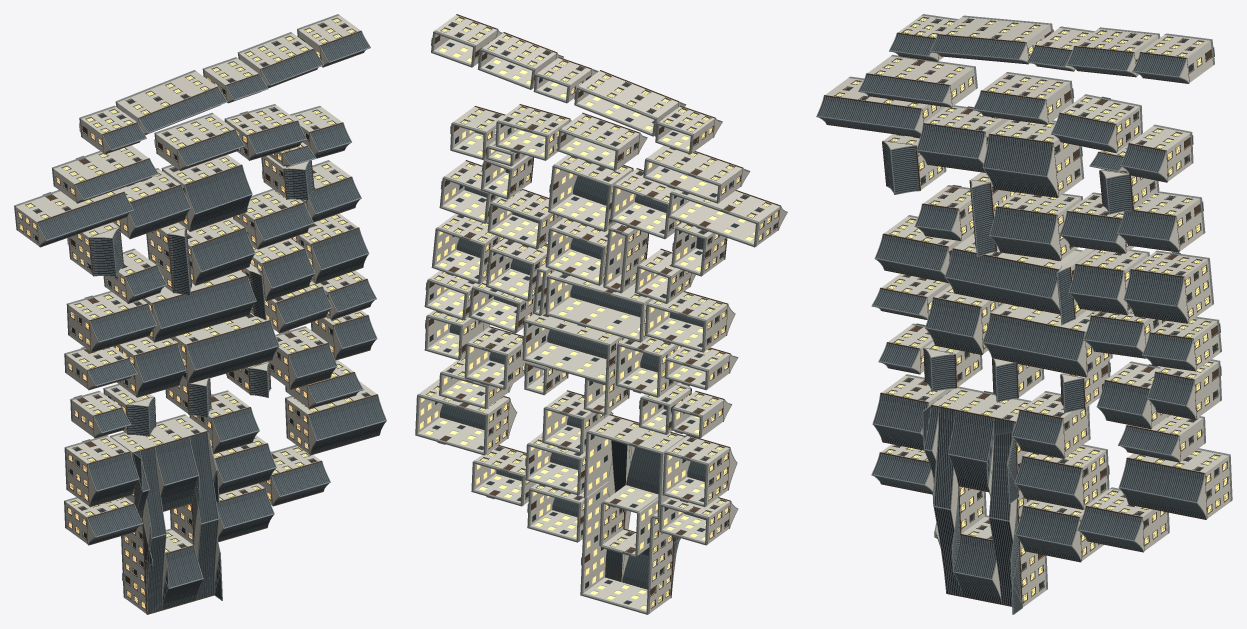
The model's file is near.glb.
The picture shows the model from 3 angles, left to right: view 1: azimuth 30°, elevation 25°; view 2: azimuth 150°, elevation 25°; view 3: azimuth 330°, elevation 25°; orthographic projection. The views are drawn at different scales.
Visible parts, largest first — view 1: relation/8507458, way/614367246, way/614367241, way/614367238, way/614367184, way/614367190, way/614367251, way/614367239, way/614428692, way/614367187, way/614367186, way/614367209 (+33 smaller); view 2: relation/8507458, way/614367246, way/614367241, way/614367238, way/614367184, way/614367190, way/614367251, way/614367239, way/614428692, way/614367187, way/614367186, way/614367209 (+33 smaller); view 3: relation/8507458, way/614367238, way/614367246, way/614367190, way/614367241, way/614367209, way/614367189, way/614367248, way/614367187, way/614428692, way/614367184, way/614367205 (+33 smaller).
Part boxes in pixels (x1,y1,x2,y2): relation/8507458: (110,414,222,614); way/614367246: (170,313,279,383); way/614367241: (142,270,256,342); way/614367238: (285,381,386,455); way/614367184: (14,189,133,247); way/614367190: (161,154,252,231); way/614367251: (64,435,139,507); way/614367239: (66,291,157,352); way/614428692: (115,70,227,135); way/614367187: (52,145,158,203); way/614367186: (154,112,244,170); way/614367209: (291,213,369,284); relation/8507458: (580,414,687,614); way/614367246: (522,312,624,384); way/614367241: (545,270,652,342); way/614367238: (415,379,517,455); way/614367184: (667,189,787,247); way/614367190: (548,154,633,231); way/614367251: (662,435,737,507); way/614367239: (645,291,735,352); way/614428692: (574,70,686,136); way/614367187: (643,145,750,203); way/614367186: (557,112,647,170); way/614367209: (431,214,504,284); relation/8507458: (921,386,1047,614); way/614367238: (1118,448,1232,519); way/614367246: (982,303,1112,377); way/614367190: (982,119,1084,197); way/614367241: (944,233,1082,314); way/614367209: (1123,250,1213,323); way/614367189: (989,192,1082,260); way/614367248: (1014,444,1109,509); way/614367187: (858,54,977,107); way/614428692: (930,15,1053,64); way/614367184: (816,76,945,137); way/614367205: (1117,191,1205,252).
Size of the model in its own units: 79.99 by 119 by 12.78.
8 materials, 1 textured.
